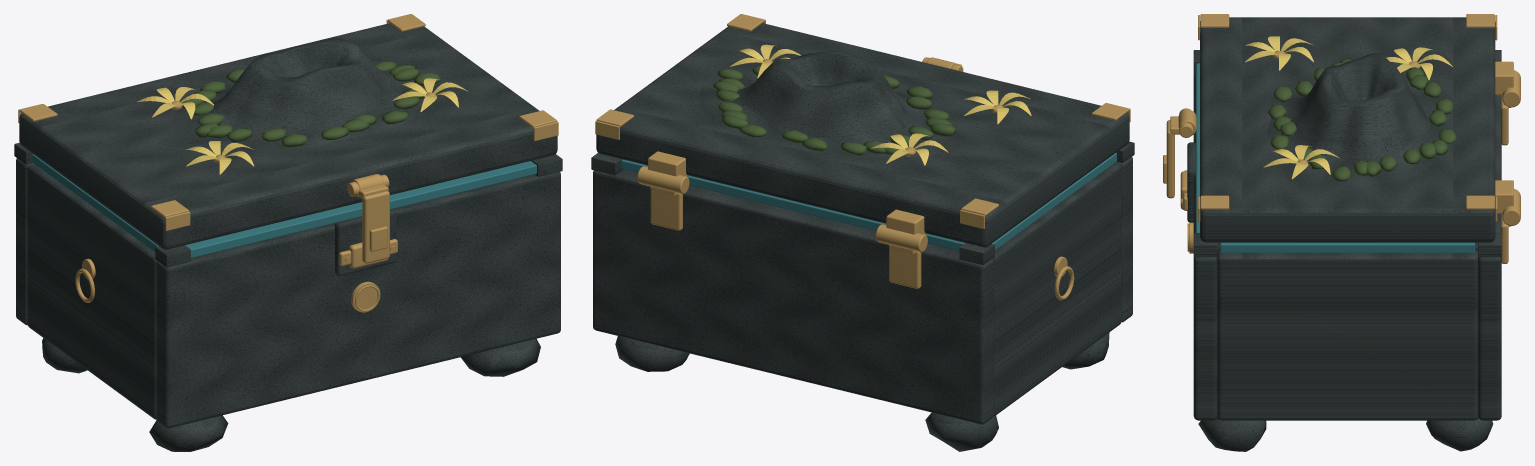
File: comoros.glb
The picture shows the model from 3 angles, left to right: view 1: azimuth 30°, elevation 25°; view 2: azimuth 150°, elevation 25°; view 3: azimuth 270°, elevation 25°; orthographic projection.
Visible parts, largest first — view 1: Basalt / front, Lid / polished slab, Basalt / side, Karthala / recessed crater, Ocean seam / long, Basalt / rear, Basalt foot, Basalt foot.002, Latch / lifting hasp, Basalt / clasp seat, Ocean seam / side, Basalt foot.001 (+2 smaller); view 2: Basalt / rear, Lid / polished slab, Basalt / side, Karthala / recessed crater, Ocean seam / long.001, Basalt / front, Basalt foot.001, Basalt foot.003, Ocean seam / side, Hinge / fixed mount.001, Hinge / fixed mount, Hinge / fixed barrel (+6 smaller); view 3: Lid / polished slab, Basalt / side.001, Karthala / recessed crater, Basalt / rear, Basalt / front, Ocean seam / side.001, Basalt foot.002, Basalt foot.003, Basalt / clasp seat, Latch / lifting hasp, Ocean seam / long, Hinge / moving leaf (+9 smaller).
Part boxes in pixels (left/top/right/bottom): Basalt / front: left=156, top=172, right=560, bottom=428; Lid / polished slab: left=19, top=23, right=557, bottom=249; Basalt / side: left=27, top=164, right=157, bottom=419; Karthala / recessed crater: left=170, top=38, right=435, bottom=151; Ocean seam / long: left=185, top=161, right=536, bottom=258; Basalt / rear: left=16, top=158, right=33, bottom=325; Basalt foot: left=149, top=415, right=228, bottom=451; Basalt foot.002: left=461, top=338, right=540, bottom=376; Latch / lifting hasp: left=362, top=191, right=389, bottom=263; Basalt / clasp seat: left=334, top=209, right=396, bottom=275; Ocean seam / side: left=32, top=154, right=158, bottom=252; Basalt foot.001: left=42, top=338, right=87, bottom=373; Basalt / rear: left=593, top=169, right=993, bottom=424; Lid / polished slab: left=596, top=23, right=1129, bottom=247; Basalt / side: left=993, top=163, right=1121, bottom=415; Karthala / recessed crater: left=699, top=51, right=956, bottom=158; Ocean seam / long.001: left=621, top=159, right=964, bottom=251; Basalt / front: left=1115, top=157, right=1132, bottom=322; Basalt foot.001: left=925, top=412, right=998, bottom=451; Basalt foot.003: left=615, top=336, right=689, bottom=371; Ocean seam / side: left=992, top=153, right=1116, bottom=250; Hinge / fixed mount.001: left=650, top=186, right=682, bottom=230; Hinge / fixed mount: left=889, top=245, right=921, bottom=288; Hinge / fixed barrel: left=875, top=224, right=927, bottom=252; Lid / polished slab: left=1200, top=17, right=1495, bottom=242; Basalt / side.001: left=1217, top=250, right=1477, bottom=420; Karthala / recessed crater: left=1267, top=53, right=1463, bottom=185; Basalt / rear: left=1478, top=95, right=1501, bottom=420; Basalt / front: left=1193, top=74, right=1217, bottom=420; Ocean seam / side.001: left=1220, top=242, right=1474, bottom=252; Basalt foot.002: left=1198, top=418, right=1266, bottom=451; Basalt foot.003: left=1426, top=418, right=1493, bottom=451; Basalt / clasp seat: left=1187, top=142, right=1196, bottom=222; Latch / lifting hasp: left=1166, top=120, right=1174, bottom=198; Ocean seam / long: left=1196, top=63, right=1199, bottom=232; Hinge / moving leaf: left=1495, top=61, right=1513, bottom=95.
Size of the model in its own units: 3.79 by 2.72 by 2.88.
Materials: 5 (1 with a texture image).
